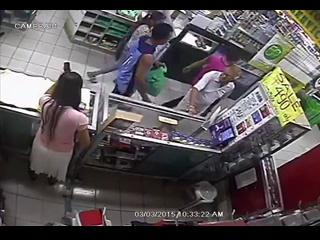Normal: (28, 66, 92, 193), (87, 19, 176, 103), (174, 64, 242, 118), (178, 46, 238, 91)
